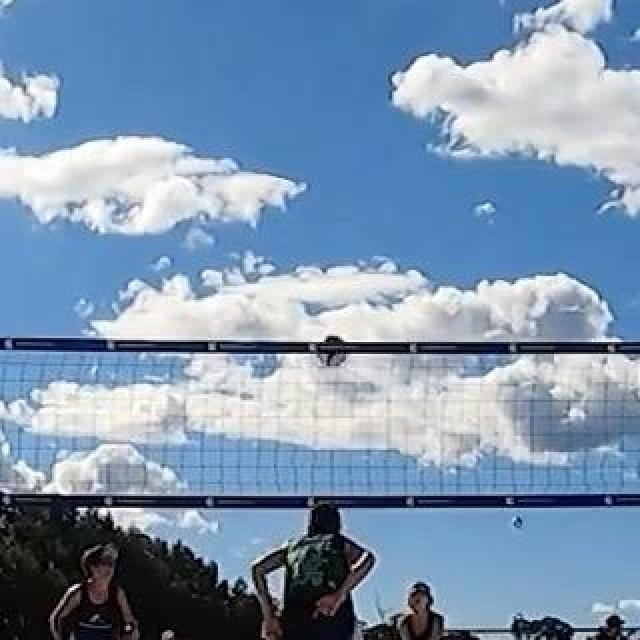volleyball: (319, 335, 347, 367)
